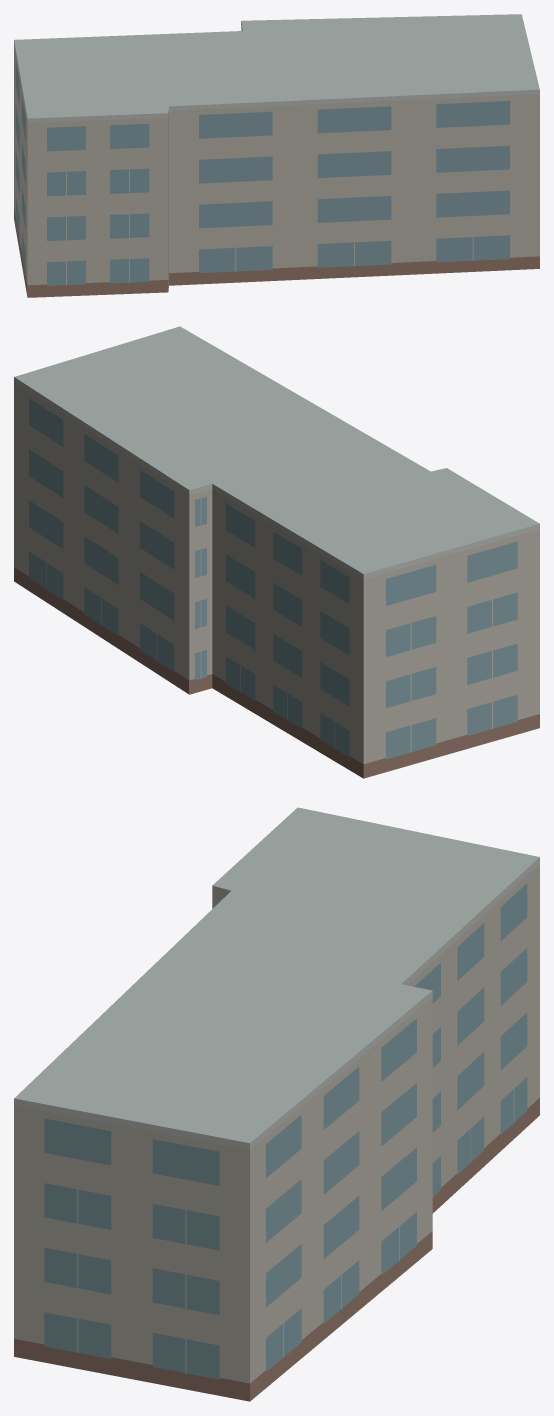
File: survey-upis-32743236.glb
The picture shows the model from 3 angles, top to bottom: view 1: azimuth 30°, elevation 25°; view 2: azimuth 150°, elevation 25°; view 3: azimuth 270°, elevation 25°; orthographic projection. The views are drawn at different scales.
Parts seen in each view (by area): view 1: survey-upis-32743236.tmp; view 2: survey-upis-32743236.tmp; view 3: survey-upis-32743236.tmp.
Boxes of the visible parts, x1,y1,x2,y2 form: survey-upis-32743236.tmp: (14, 14, 539, 297); survey-upis-32743236.tmp: (14, 326, 539, 778); survey-upis-32743236.tmp: (14, 807, 539, 1401).
Bounding box in the file's own units: 26.5 × 9.5 × 17.53.
